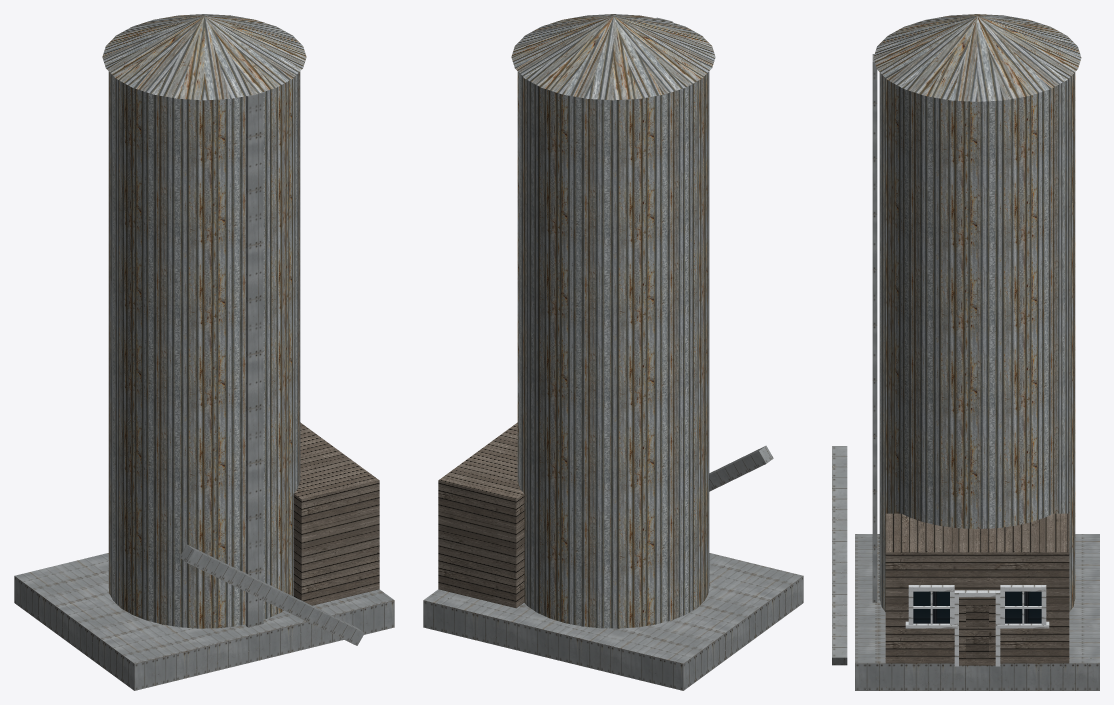
File: otter-creek-grain-elevator_lod0.gltf
The picture shows the model from 3 angles, left to right: view 1: azimuth 30°, elevation 25°; view 2: azimuth 150°, elevation 25°; view 3: azimuth 270°, elevation 25°; orthographic projection.
Visible parts, largest first — view 1: otter-creek-grain-elevator_cyl0, otter-creek-grain-elevator_base, otter-creek-grain-elevator__cap, otter-creek-grain-elevator__office_wing, otter-creek-grain-elevator__ladder, otter-creek-grain-elevator__auger; view 2: otter-creek-grain-elevator_cyl0, otter-creek-grain-elevator_base, otter-creek-grain-elevator__cap, otter-creek-grain-elevator__office_wing, otter-creek-grain-elevator__auger; view 3: otter-creek-grain-elevator_cyl0, otter-creek-grain-elevator__office_wing, otter-creek-grain-elevator__cap, otter-creek-grain-elevator_base, otter-creek-grain-elevator__auger, otter-creek-grain-elevator_fen_20-white-clapboard_0, otter-creek-grain-elevator__ladder, otter-creek-grain-elevator_fen_07-glass-curtain-blue_4_t, otter-creek-grain-elevator_fen_18-timber-siding_1, otter-creek-grain-elevator_fen_18-timber-siding_2_t.
Boxes of the visible parts, x1,y1,x2,y2 form: otter-creek-grain-elevator_cyl0: (108,71,300,628); otter-creek-grain-elevator_base: (14,553,394,690); otter-creek-grain-elevator__cap: (102,14,306,100); otter-creek-grain-elevator__office_wing: (293,422,379,605); otter-creek-grain-elevator__ladder: (246,92,263,627); otter-creek-grain-elevator__auger: (179,544,364,645); otter-creek-grain-elevator_cyl0: (517,71,709,628); otter-creek-grain-elevator_base: (423,553,803,690); otter-creek-grain-elevator__cap: (511,14,715,100); otter-creek-grain-elevator__office_wing: (438,422,524,608); otter-creek-grain-elevator__auger: (709,445,773,491); otter-creek-grain-elevator_cyl0: (879,72,1075,611); otter-creek-grain-elevator__office_wing: (885,513,1069,663); otter-creek-grain-elevator__cap: (873,14,1081,101); otter-creek-grain-elevator_base: (855,534,1099,690); otter-creek-grain-elevator__auger: (832,446,847,665); otter-creek-grain-elevator_fen_20-white-clapboard_0: (905,585,1049,666); otter-creek-grain-elevator__ladder: (872,54,877,602); otter-creek-grain-elevator_fen_07-glass-curtain-blue_4_t: (913,591,1041,623); otter-creek-grain-elevator_fen_18-timber-siding_1: (959,597,995,665); otter-creek-grain-elevator_fen_18-timber-siding_2_t: (966,605,988,658).
Size of the model in its own units: 10.28 by 22 by 8.75.
